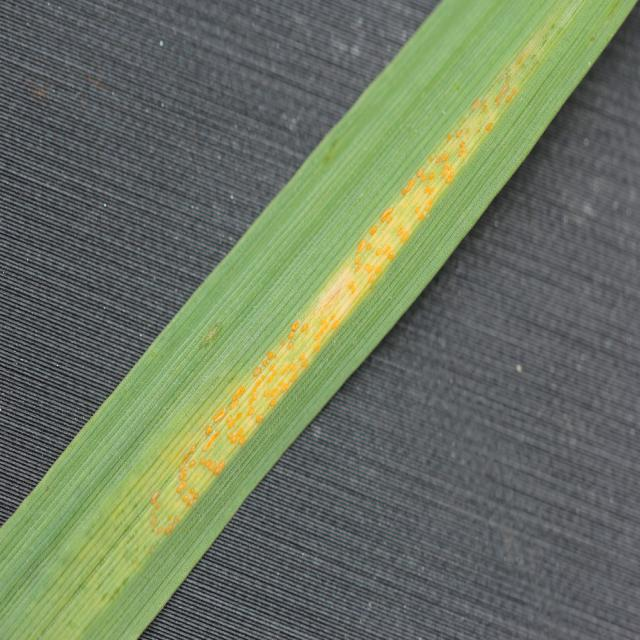wheat-yellowrust: (0, 0, 640, 640)
